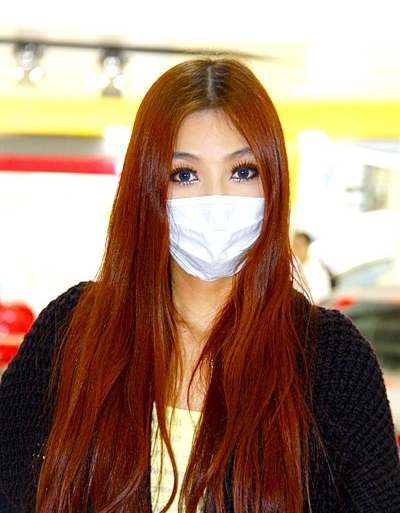face_mask: (158, 102, 267, 278)
